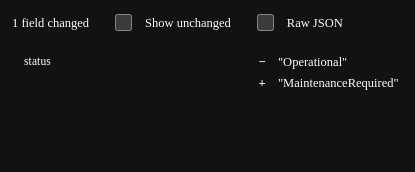
Test: JsonDiff › can also show the fields that did not change
This screenshot has width=415, height=172.
Click the checkbox labelled "Show unchanged" at x=124, y=22, box [115,14,132,31]
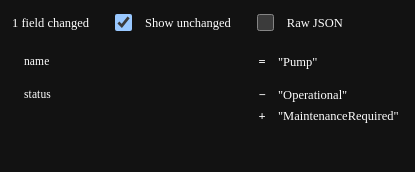
Expected: the text "name" is shown, [24,55,49,67]
Expected: the text "\"Pump\"" is shown, [278,53,317,72]
